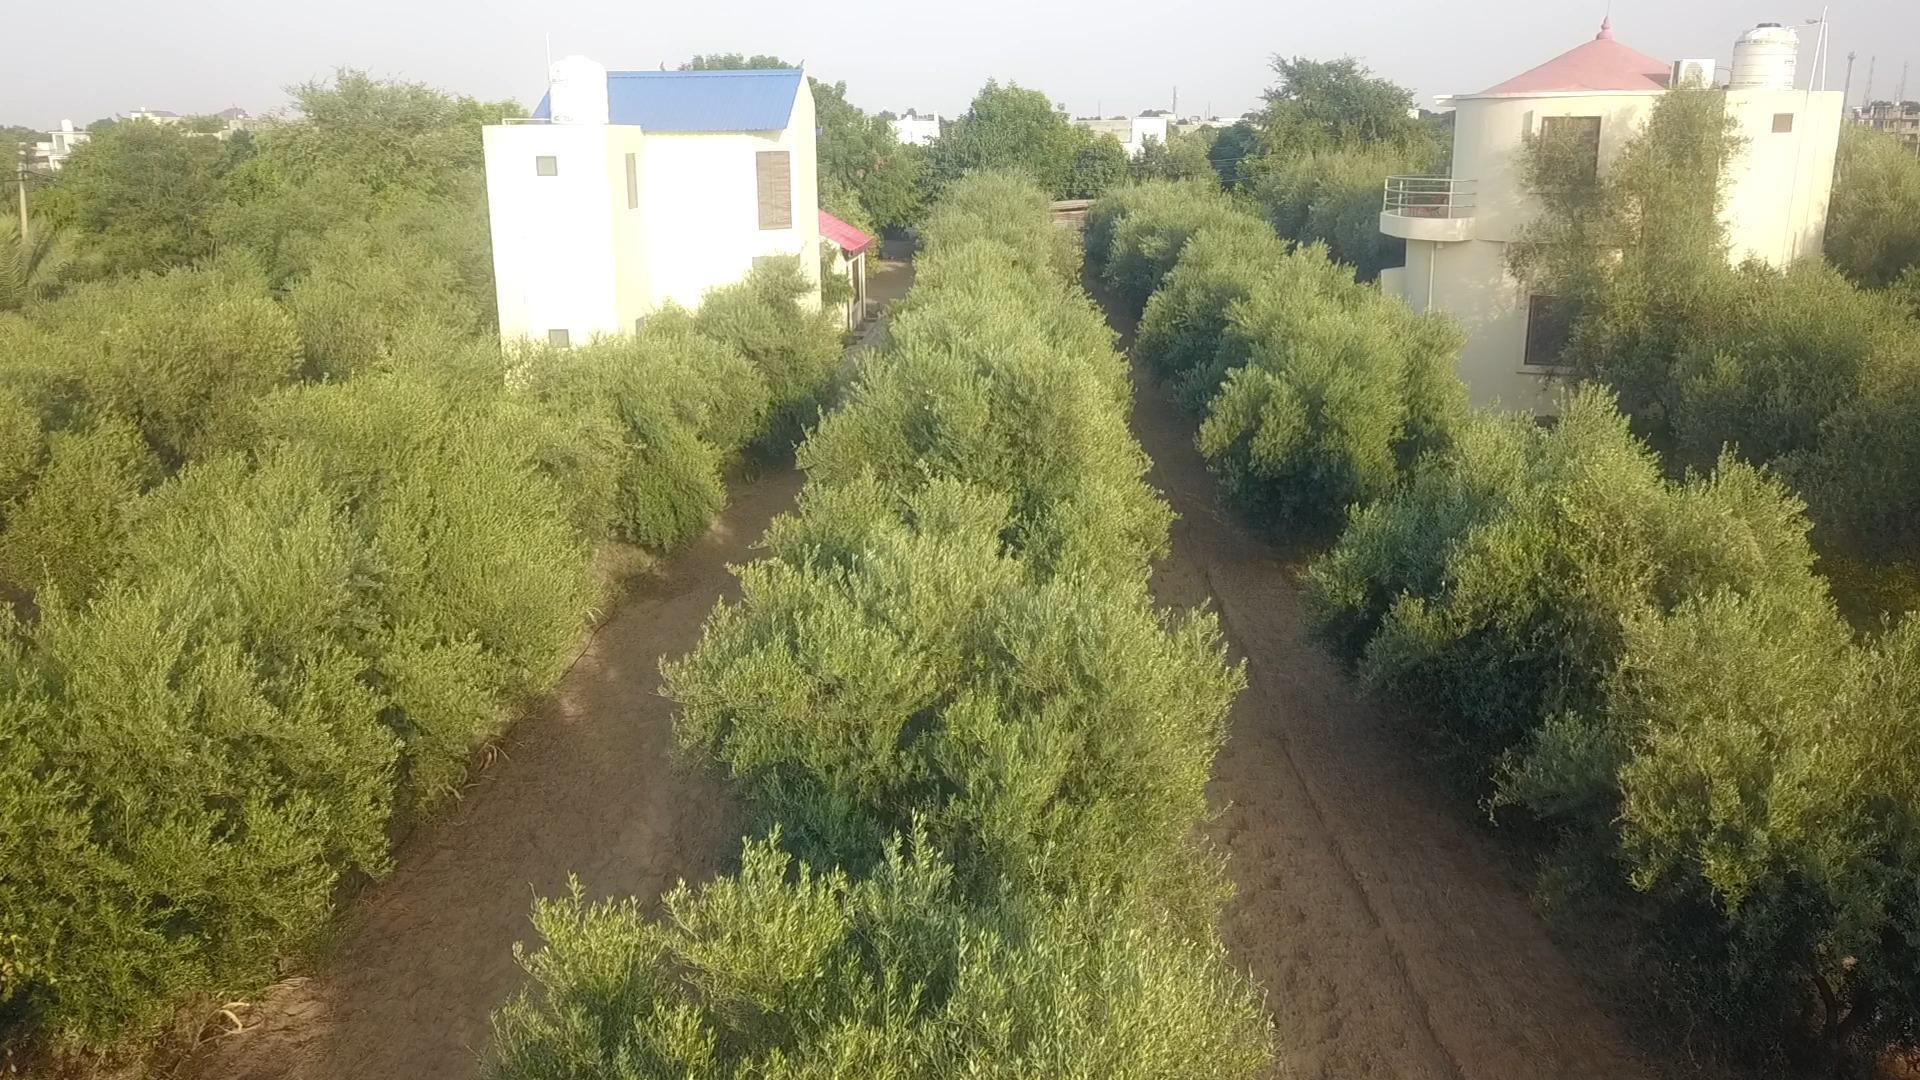canopy: (495, 169, 1270, 1077), (1100, 181, 1919, 1035), (0, 260, 840, 1034), (1509, 90, 1919, 549)
road: (1133, 373, 1655, 1079), (204, 462, 800, 1079)
